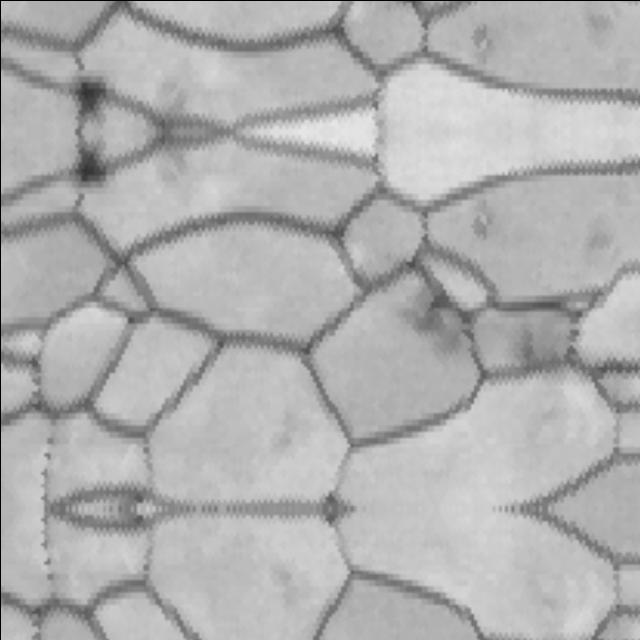good_void: (389, 278, 477, 364), (59, 132, 119, 195), (59, 69, 119, 132), (510, 322, 568, 376), (463, 21, 512, 71), (463, 193, 512, 242)
